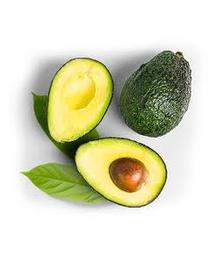avocado: (74, 135, 168, 209), (120, 51, 192, 138), (46, 56, 114, 145)
